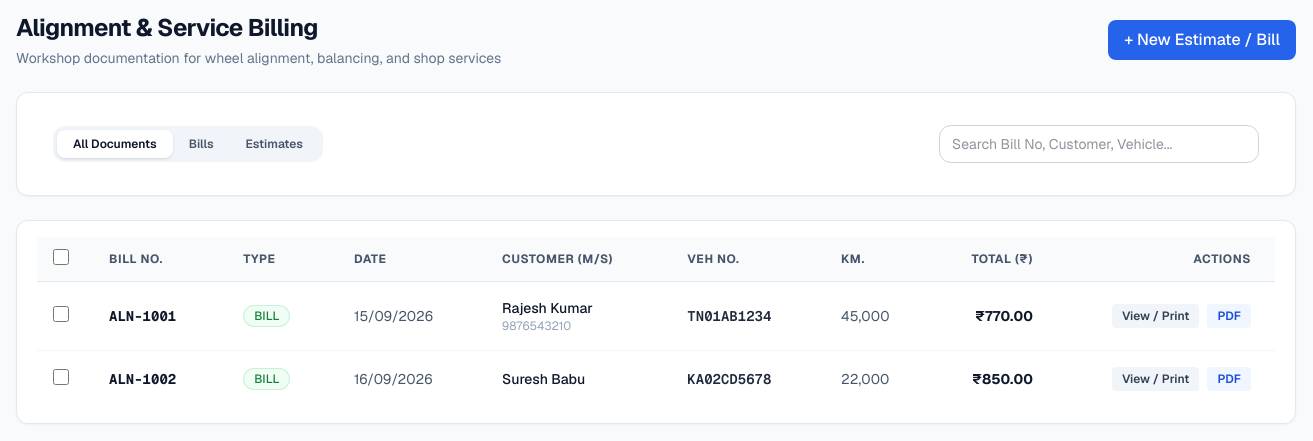
Scenario: AlignmentBillingPage History & Permanent Delete Component Tests › toggles single row selection and shows Delete Selected action
Expected: the link "ALN-1001" is shown, [109,307,176,325]
Expected: the button "Delete Selected" is not shown
# Select first bill
Click the checkbox named "Select bill ALN-1001": (61, 314) [53,306,69,322]
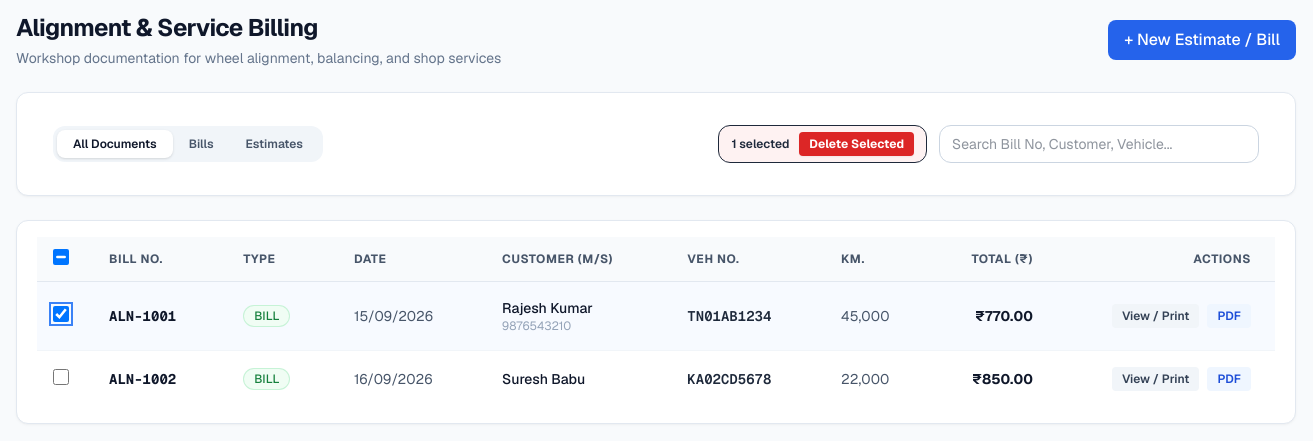
Expected: the text "1 selected" is shown, [731,136,789,152]
Expected: the button "Delete Selected" is shown, [799,132,914,156]
# Uncheck first bill
Click the checkbox named "Select bill ALN-1001": (61, 314) [53,306,69,322]
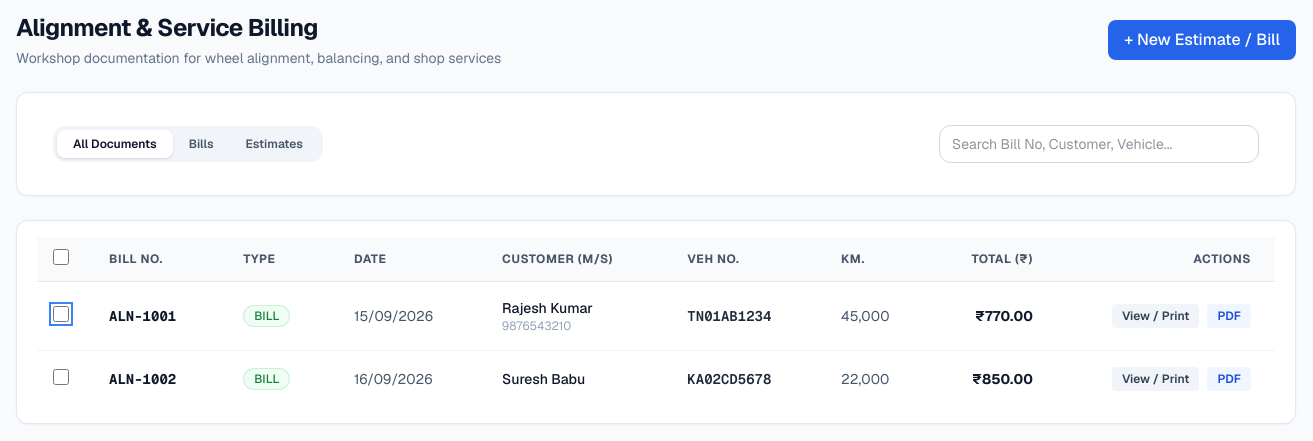
Expected: the button "Delete Selected" is gone
